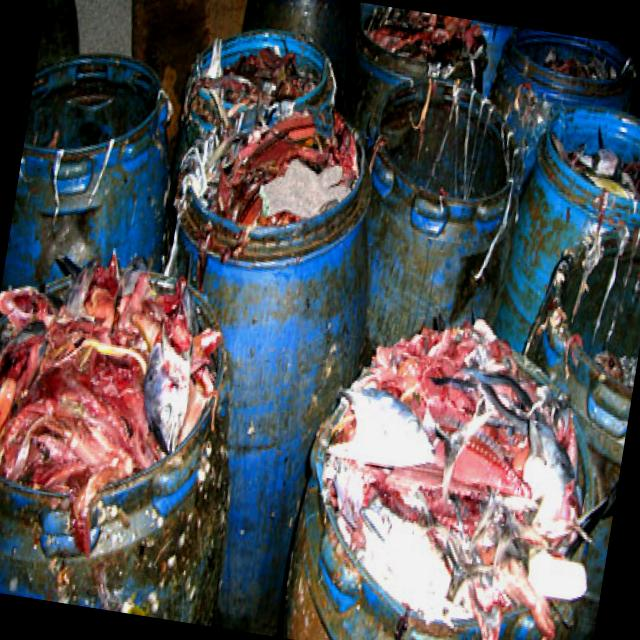garbage: (269, 318, 606, 640), (339, 11, 640, 332), (0, 231, 226, 620), (166, 13, 368, 260)
